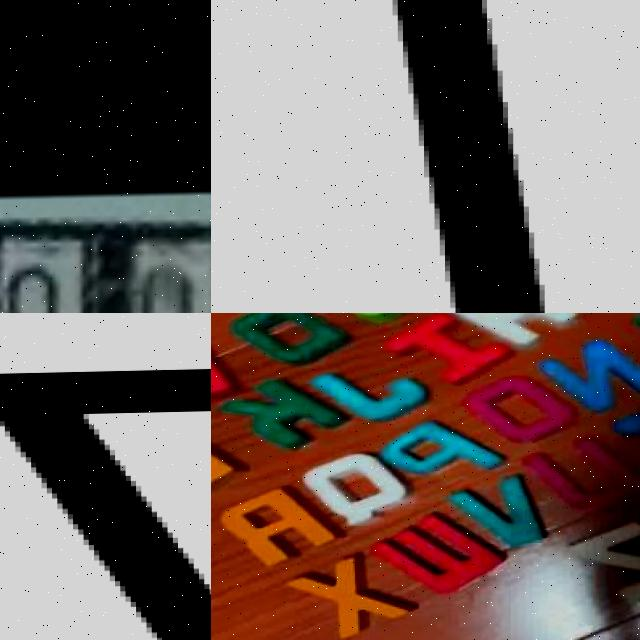0: (7, 255, 67, 313), (140, 256, 200, 313)
D: (225, 313, 347, 362)
H: (448, 313, 575, 349)
I: (390, 0, 547, 313), (388, 314, 512, 387)
J: (317, 364, 421, 424)
K: (222, 378, 344, 445)
N: (543, 340, 640, 414)
O: (462, 376, 570, 442)
P: (389, 419, 502, 483)
Q: (304, 453, 398, 528)
R: (218, 489, 332, 564)
T: (618, 401, 640, 469)
U: (524, 438, 634, 511)
V: (444, 473, 548, 556)
W: (378, 515, 508, 597)
X: (287, 557, 398, 635)
Z: (0, 355, 211, 640), (568, 521, 640, 605)
